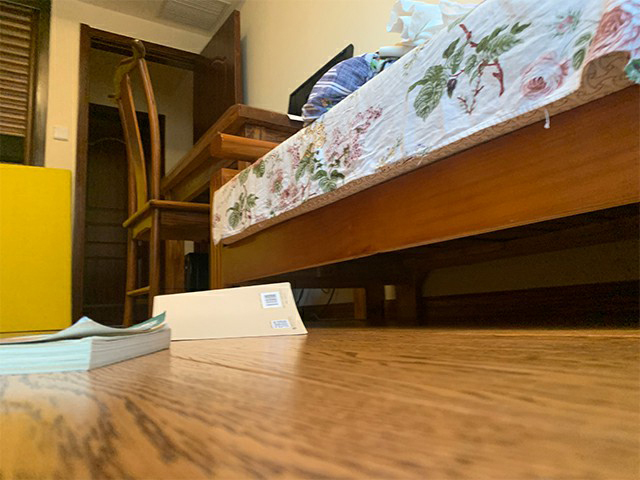book: (1, 314, 171, 373), (168, 279, 305, 345)
sofa: (207, 1, 640, 322)
stool: (107, 38, 210, 328)
